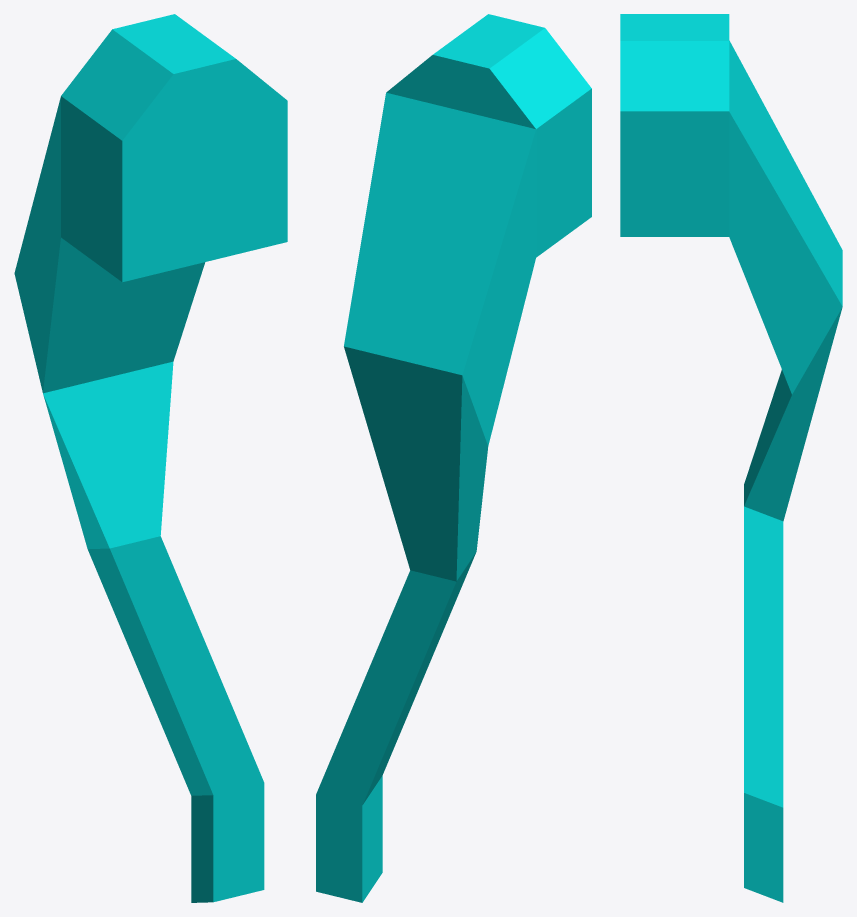
The model's file is Attachment_Type0_C.fbx.
3 renders of one model, left to right at view 1: azimuth 30°, elevation 25°; view 2: azimuth 150°, elevation 25°; view 3: azimuth 270°, elevation 25°, orthographic. The views are drawn at different scales.
Visible parts, largest first — view 1: Attachment_Type0_C; view 2: Attachment_Type0_C; view 3: Attachment_Type0_C.
Boxes of the visible parts, x1,y1,x2,y2 form: Attachment_Type0_C: (14, 14, 287, 902); Attachment_Type0_C: (316, 14, 591, 902); Attachment_Type0_C: (620, 14, 842, 902).
Size of the model in its own units: 2.92 by 12.17 by 2.99.
